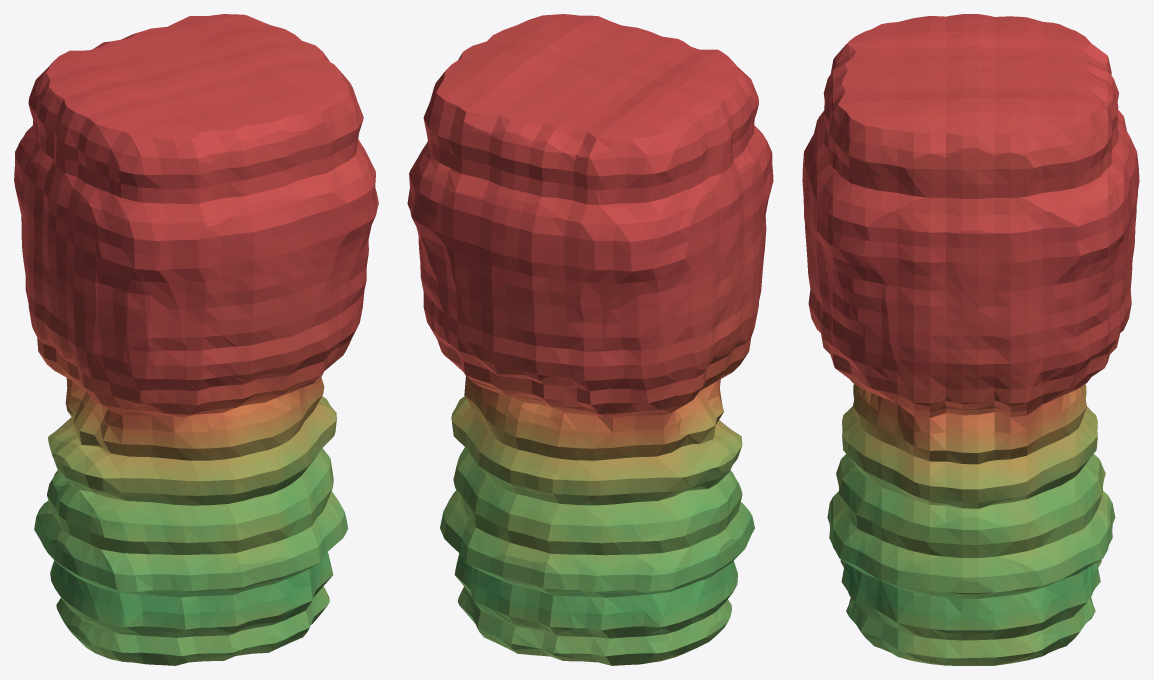
The picture shows the model from 3 angles, left to right: view 1: azimuth 30°, elevation 25°; view 2: azimuth 150°, elevation 25°; view 3: azimuth 270°, elevation 25°; orthographic projection.
Visible parts, largest first — view 1: geometry_0; view 2: geometry_0; view 3: geometry_0.
Boxes of the visible parts, bbox=[...] form: geometry_0: bbox=[14, 14, 378, 665]; geometry_0: bbox=[407, 14, 773, 665]; geometry_0: bbox=[802, 14, 1139, 665].
Bounding box in the file's own units: 0.8824 × 1.62 × 0.8884.
